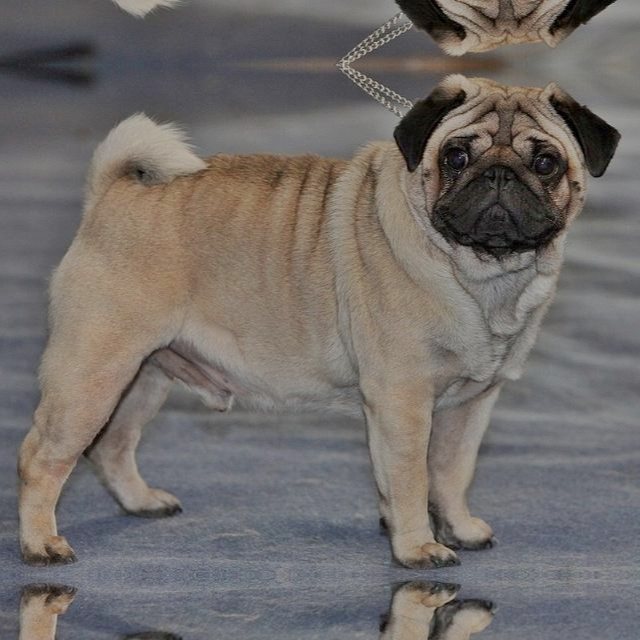dog: (0, 66, 620, 572), (0, 577, 620, 640), (0, 0, 620, 61)
